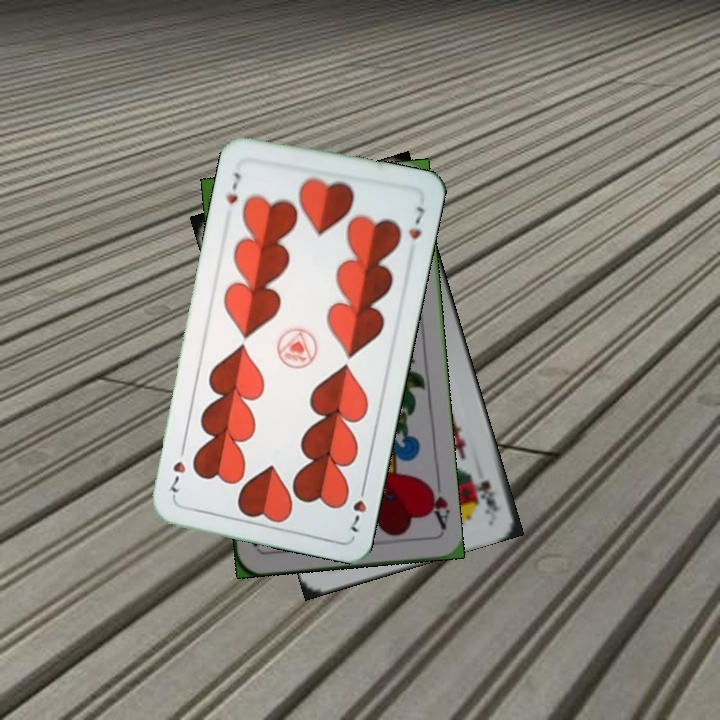H7: (346, 479, 369, 535), (222, 168, 243, 207)
HA: (422, 474, 452, 533)
SK: (473, 476, 504, 518)
